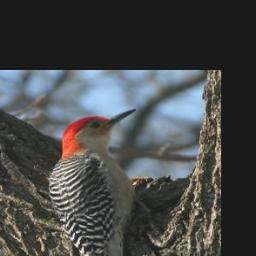Woodpecker: (44, 106, 154, 256)
